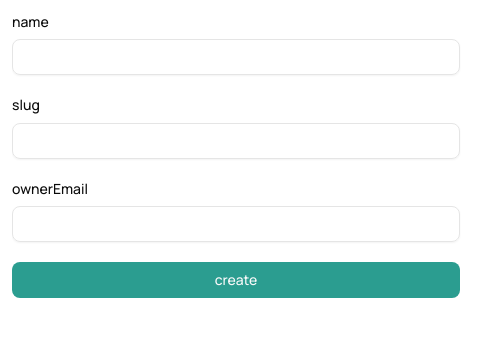
NewClubPage › keeps all three fields when a taken slug is refused
Type "Bebek Kürek Kulübü" into the field labelled "name" at (236, 57), box 12,39 -> 460,75
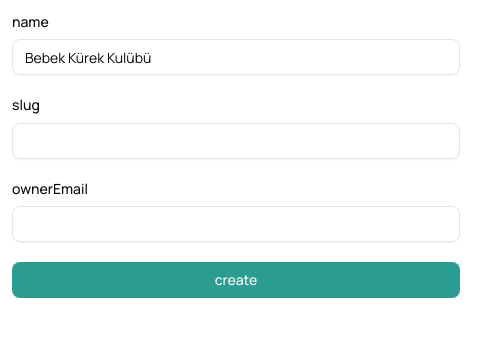
Type "bebek" into the field labelled "slug" at (236, 140), box 12,122 -> 460,158
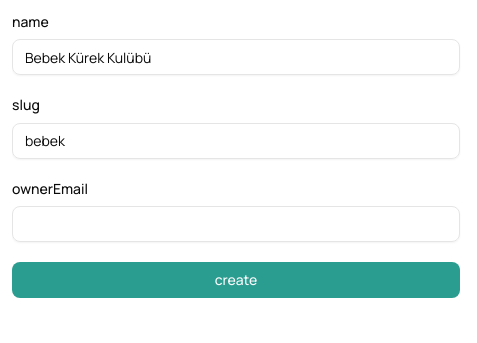
Type "owner@example.com" into the field labelled "ownerEmail" at (236, 224), box 12,206 -> 460,242
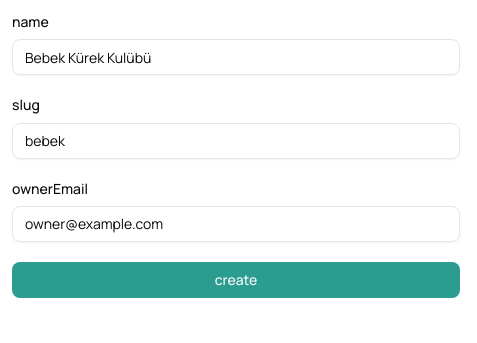
Submit the form
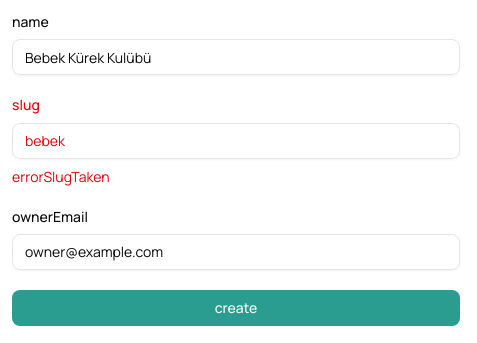
Now the text "errorSlugTaken" is shown, box 12,166 -> 110,186
